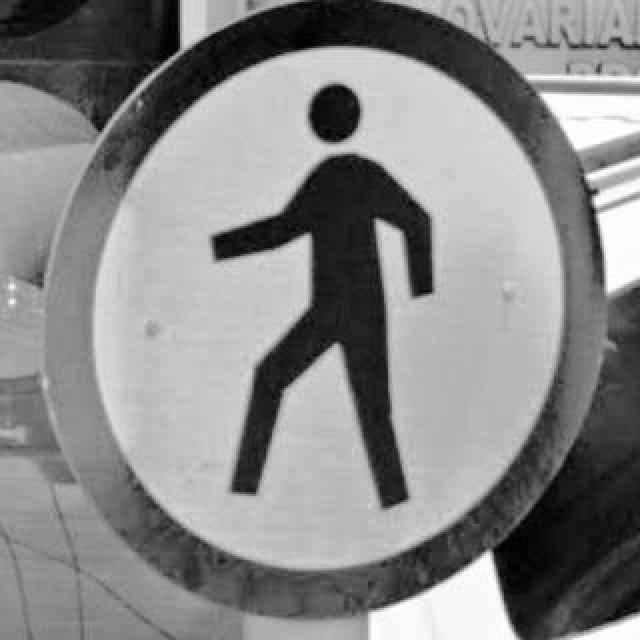pedestrian crossing: (36, 6, 612, 618)
